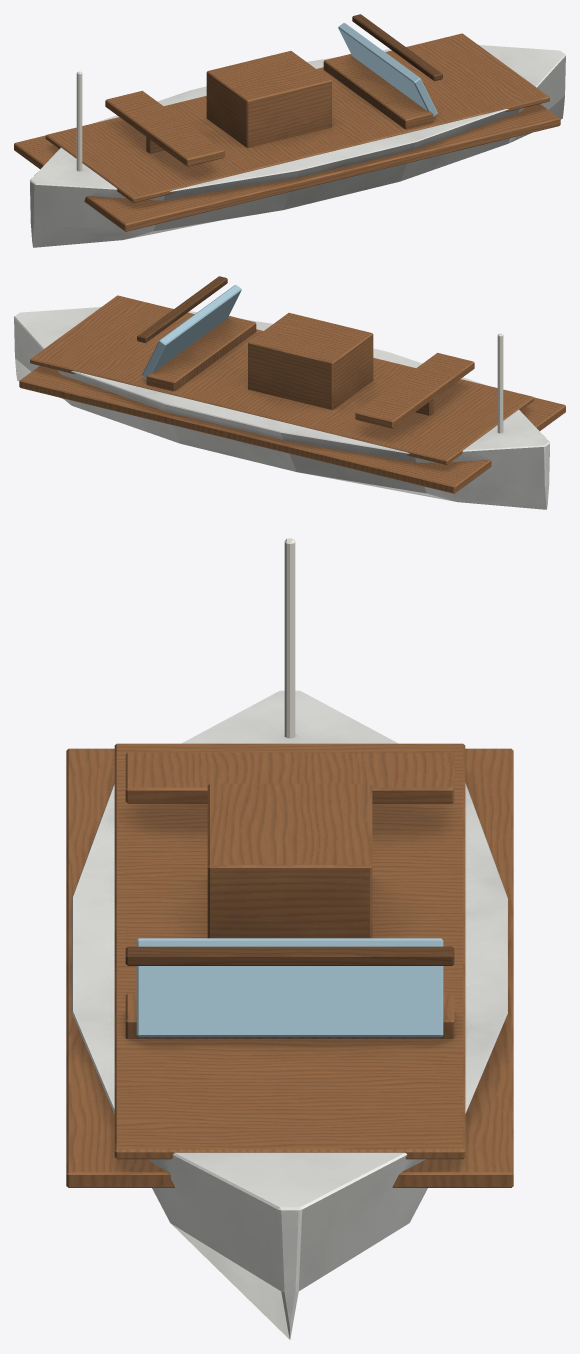
File: snipa_tex.glb
3 views of the same model, one above another, from view 1: azimuth 30°, elevation 25°; view 2: azimuth 150°, elevation 25°; view 3: azimuth 270°, elevation 25° (orthographic). The views are drawn at different scales.
Visible parts, largest first — view 1: snipa; view 2: snipa; view 3: snipa.
Boxes of the visible parts, bbox=[...] form: snipa: bbox=[14, 14, 565, 247]; snipa: bbox=[14, 276, 565, 509]; snipa: bbox=[66, 538, 513, 1339].
Size of the model in its own units: 5.6 by 1.85 by 2.04.
5 materials, 3 textured.
